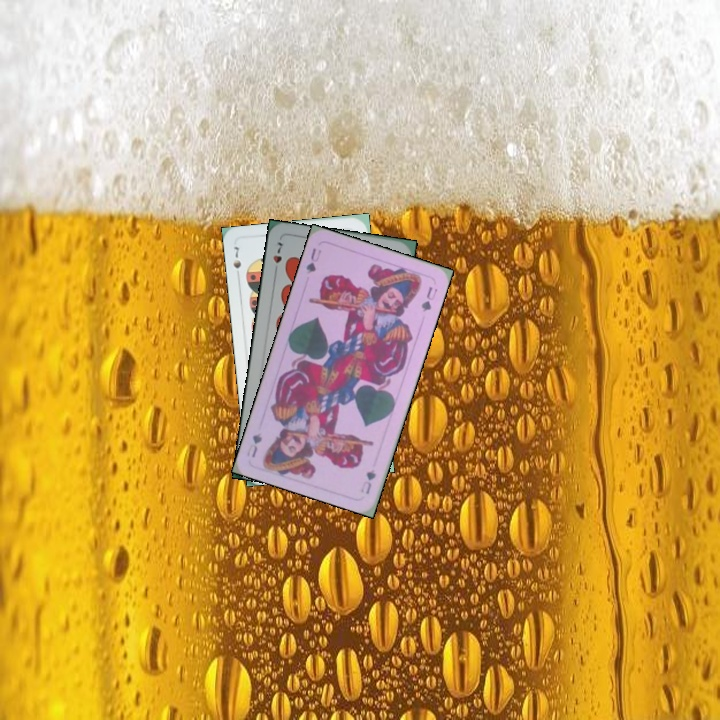GU: (356, 466, 379, 497), (302, 244, 324, 276)
H7: (269, 238, 285, 277)
S7: (229, 242, 244, 282)
